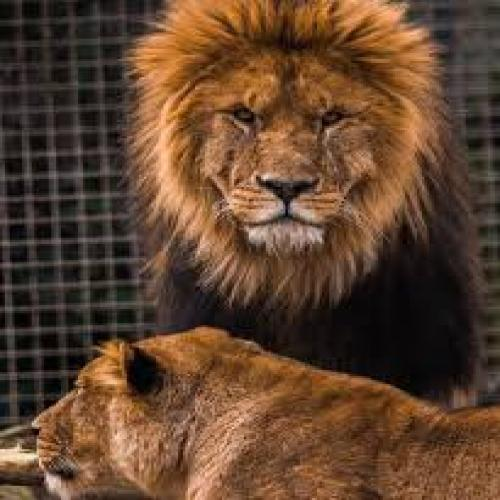lion-endangered: (129, 3, 471, 400), (29, 324, 500, 500)
